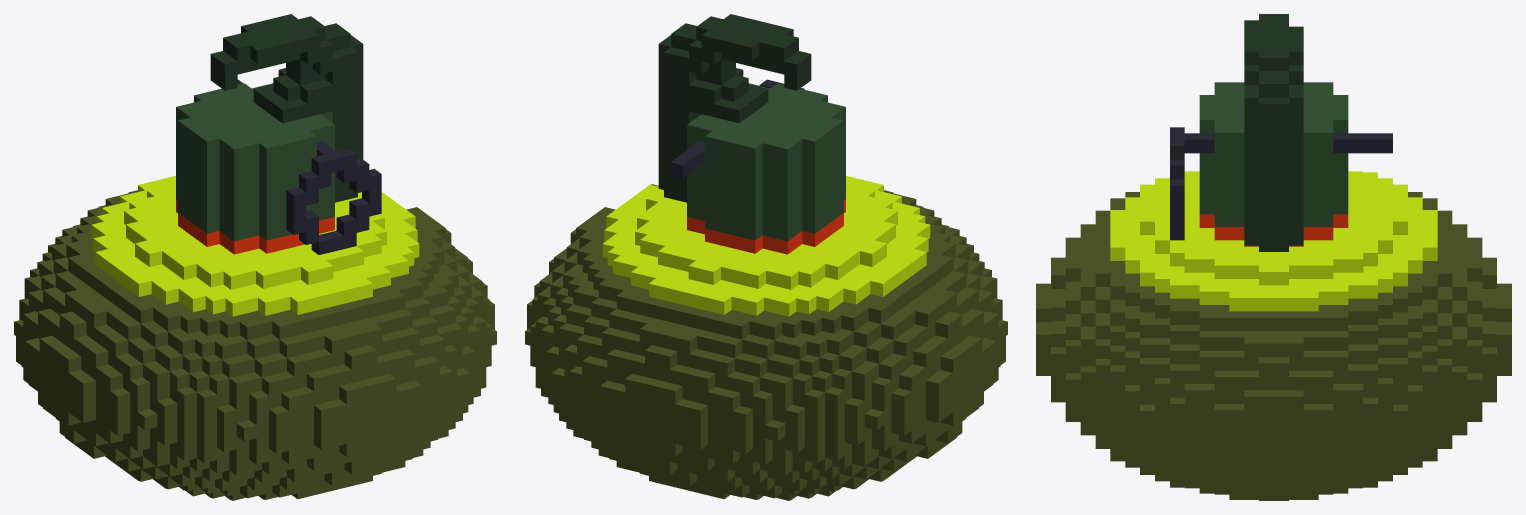
Rendered from grenade.gltf.
3 views of the same model, side by side, from view 1: azimuth 30°, elevation 25°; view 2: azimuth 150°, elevation 25°; view 3: azimuth 270°, elevation 25° (orthographic). The views are drawn at different scales.
Parts seen in each view (by area): view 1: body, pin.1, pin; view 2: body, pin.1, pin; view 3: body, pin.1, pin.
Part boxes in pixels (x1=…): body: x1=14, y1=83, x2=496, y2=500; pin.1: x1=210, y1=14, x2=363, y2=202; pin: x1=237, y1=79, x2=381, y2=254; body: x1=525, y1=83, x2=1007, y2=500; pin.1: x1=658, y1=14, x2=811, y2=202; pin: x1=670, y1=79, x2=804, y2=178; body: x1=1036, y1=82, x2=1511, y2=500; pin.1: x1=1244, y1=14, x2=1303, y2=251; pin: x1=1170, y1=127, x2=1392, y2=240.
Size of the model in its own units: 32 by 32 by 32.
Materials: 1 (1 with a texture image).
